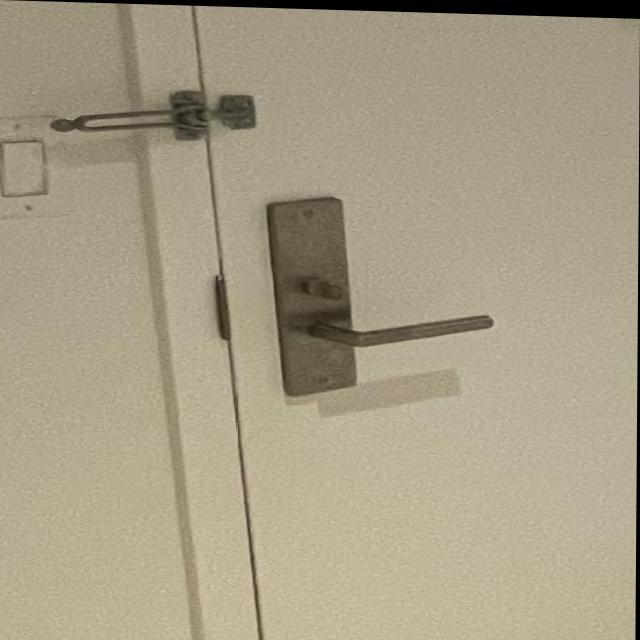door_handle: (272, 298, 512, 357)
